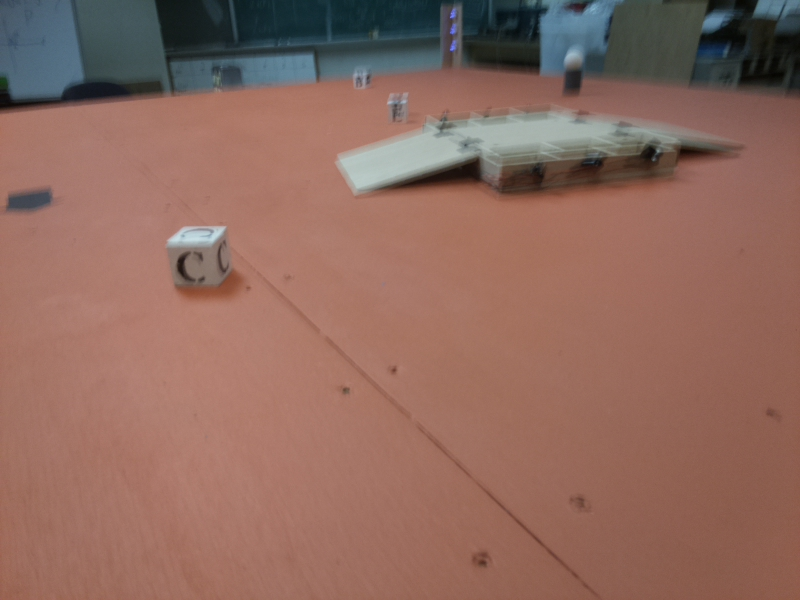blockB: (353, 68, 372, 95)
blockC: (163, 223, 234, 290)
blockE: (387, 92, 410, 125)
corner: (439, 4, 464, 73)
obstacle: (563, 47, 582, 93)
side: (476, 134, 684, 201)
slope: (334, 128, 476, 194), (582, 105, 750, 160)
start: (1, 183, 68, 217)
